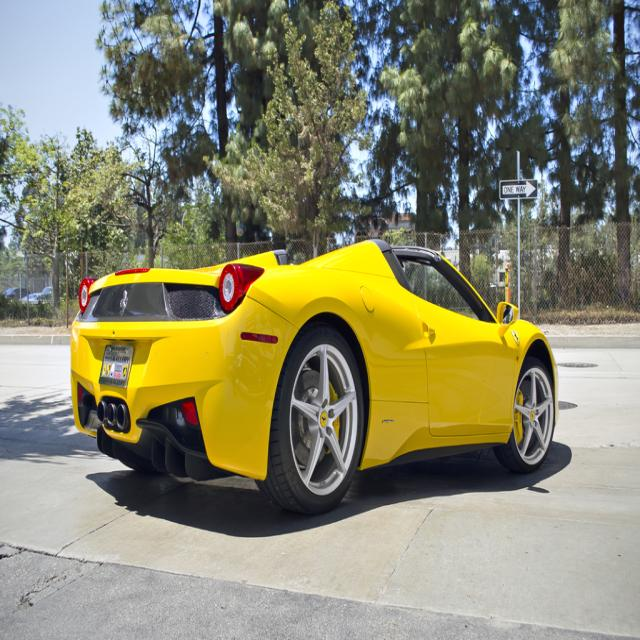car: (57, 232, 559, 522)
